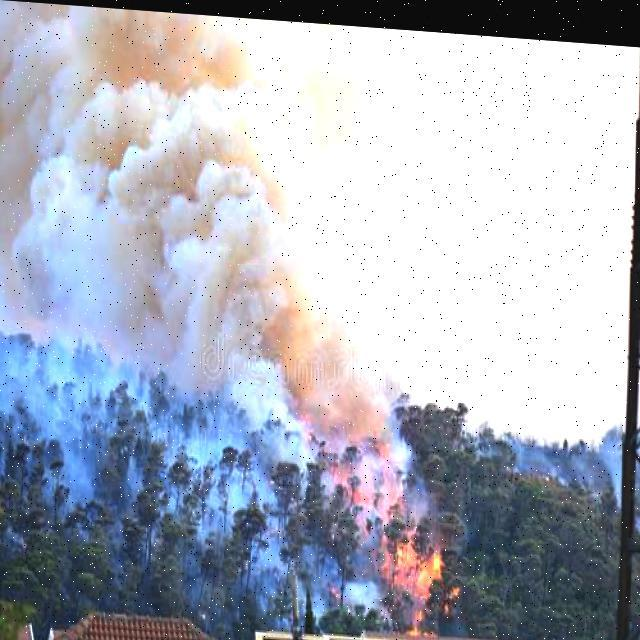Fire: (304, 384, 458, 632)
